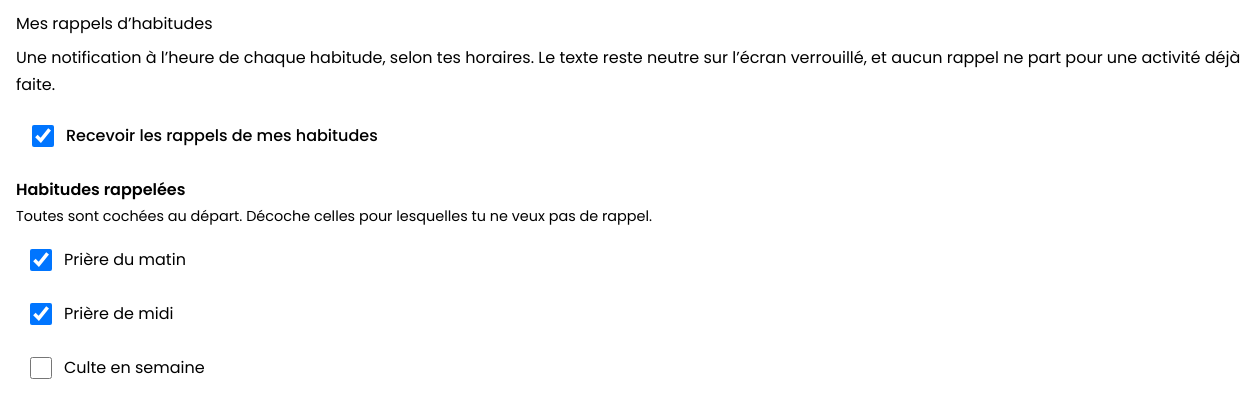
Test case: arrêter garde les choix pour une prochaine activation
Click the switch at (43, 136), box [32,125,54,147]
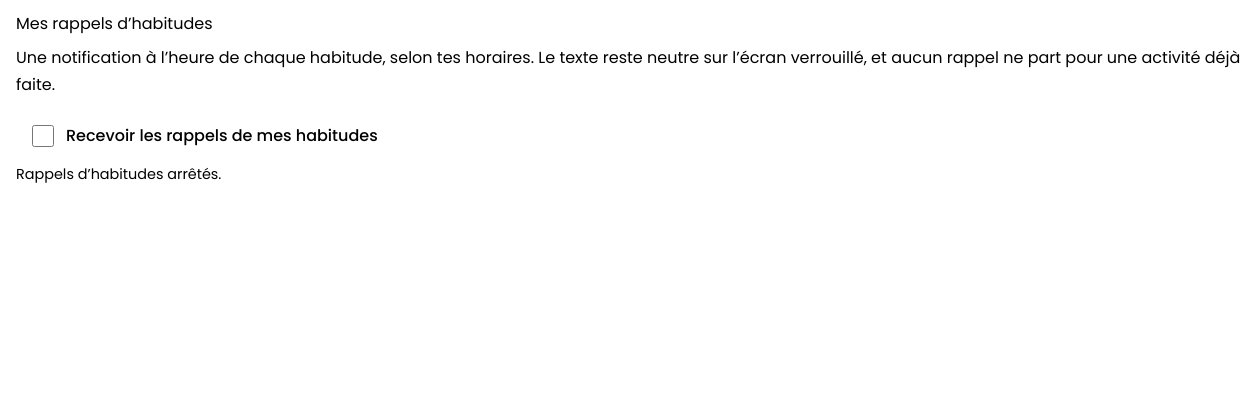
Now the text "Rappels d’habitudes arrêtés." is shown, box [16,164,221,184]
Now the label "Prière de midi" is gone
